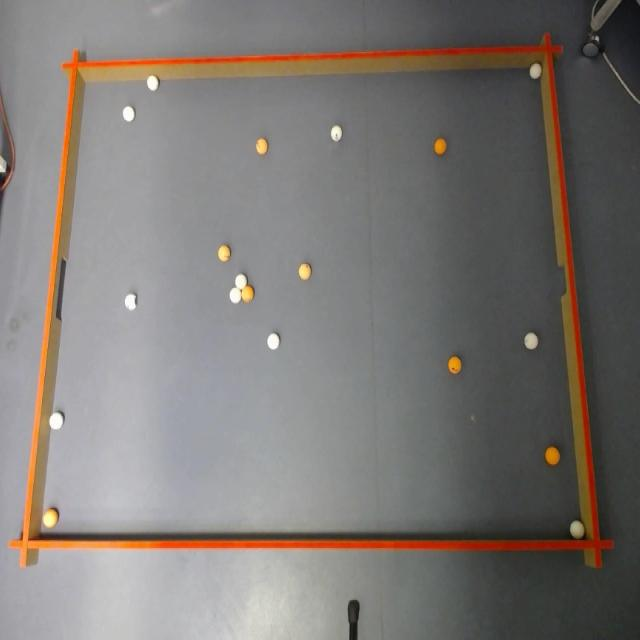orange_ball: (43, 508, 58, 528), (545, 446, 560, 466), (448, 356, 461, 374), (434, 138, 446, 155), (218, 246, 230, 262), (298, 263, 310, 279), (242, 286, 254, 302), (256, 138, 267, 154)
white_ball: (570, 520, 584, 539), (49, 412, 64, 429), (524, 332, 538, 350), (268, 333, 280, 350), (530, 63, 542, 79), (229, 288, 241, 304), (331, 125, 342, 142), (123, 106, 134, 122), (125, 294, 136, 310), (236, 274, 247, 289), (147, 76, 158, 90)
